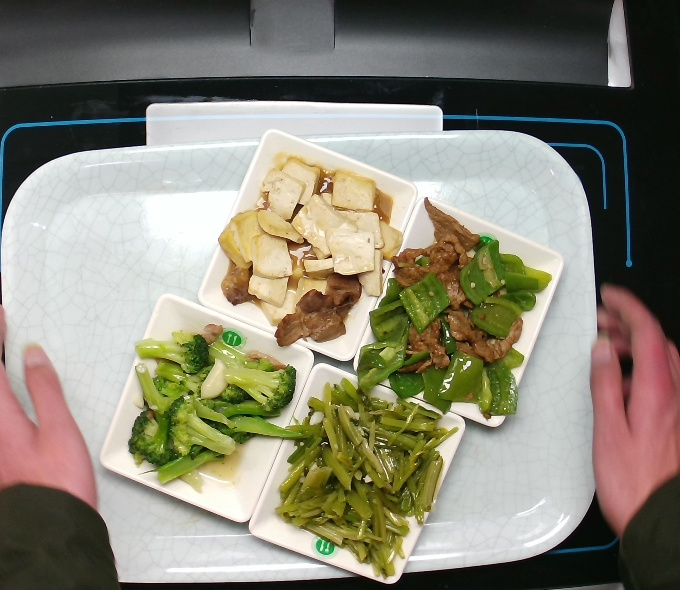wcq-DouFuRouPian: (204, 145, 404, 355)
wcq-QinCai: (282, 379, 454, 579)
wcq-QingJiaoChaoRou: (370, 200, 547, 420)
wcq-XiLanHua: (121, 326, 297, 486)
